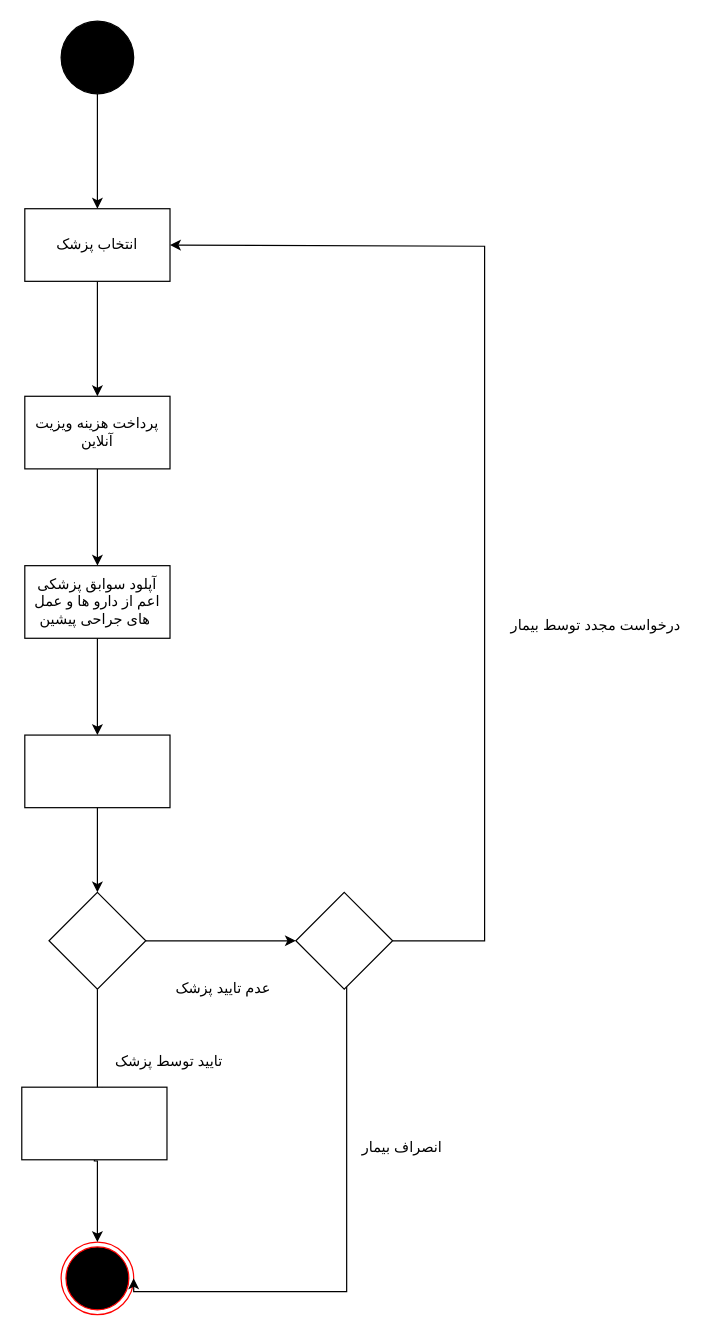
Some shapes in this 701 by 1336 pixel diagram are drawn without their labels. The shapes that lost their labels are listed below. From the top down, each one's centre as x and y in pixels, then its label:
pixel 97 771: بررسی مدارک بیمار توسط پزشک
pixel 94 1123: setting surgery schedule
